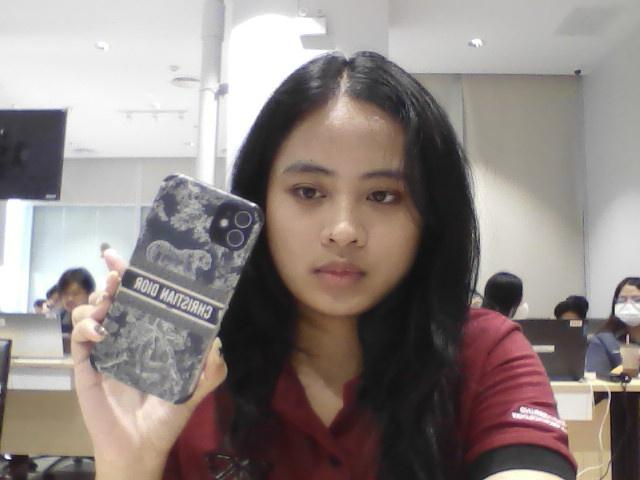iphone: (79, 156, 271, 420)
